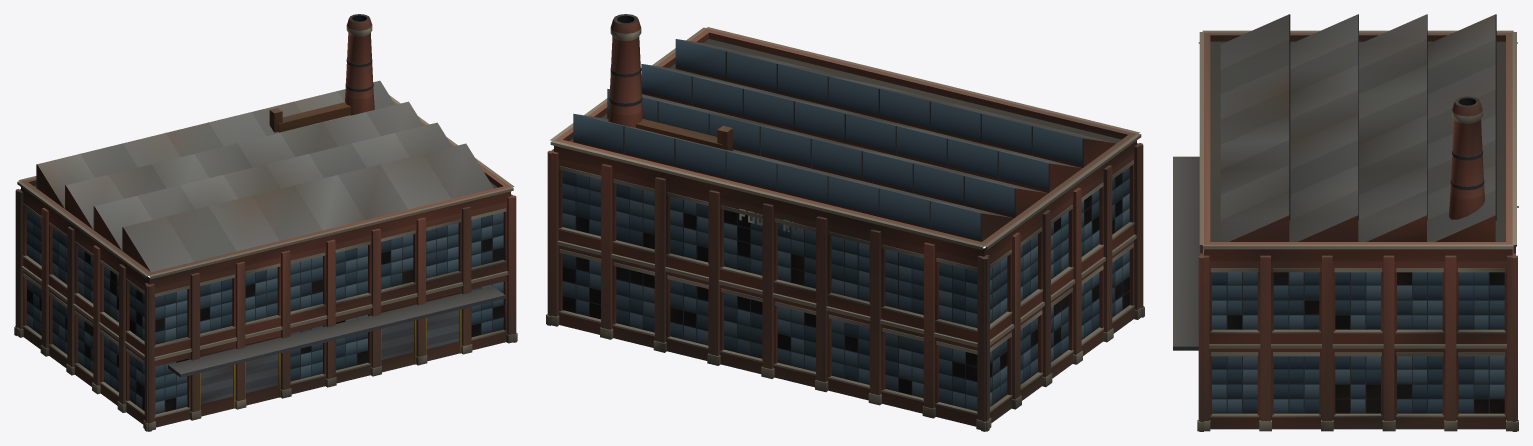
File: building_e.glb
3 renders of one model, left to right at view 1: azimuth 30°, elevation 25°; view 2: azimuth 150°, elevation 25°; view 3: azimuth 270°, elevation 25°, orthographic. The views are drawn at different scales.
Visible parts, largest first — view 1: Building; view 2: Building; view 3: Building.
Part boxes in pixels (left/top/right/bottom): Building: left=14, top=14, right=517, bottom=431; Building: left=546, top=14, right=1144, bottom=431; Building: left=1173, top=14, right=1518, bottom=431.
Bounding box in the file's own units: 40 × 26 × 26.9.
